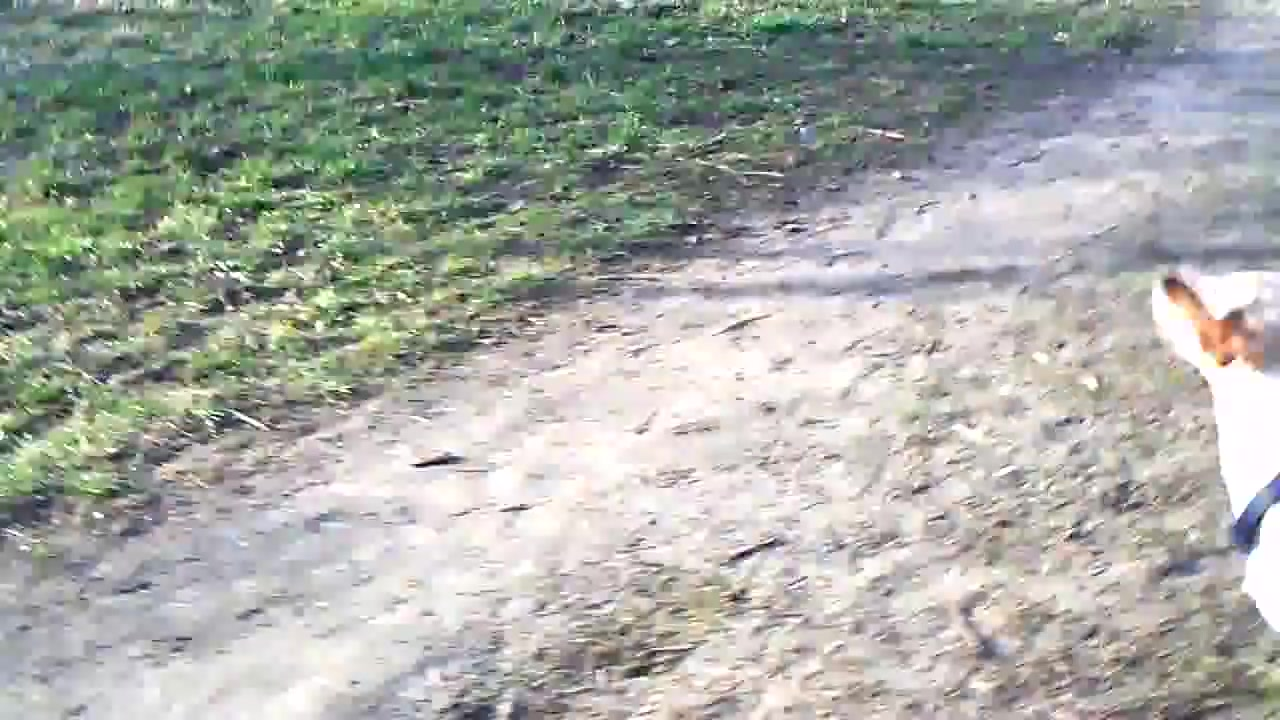dog: (1152, 267, 1280, 638)
